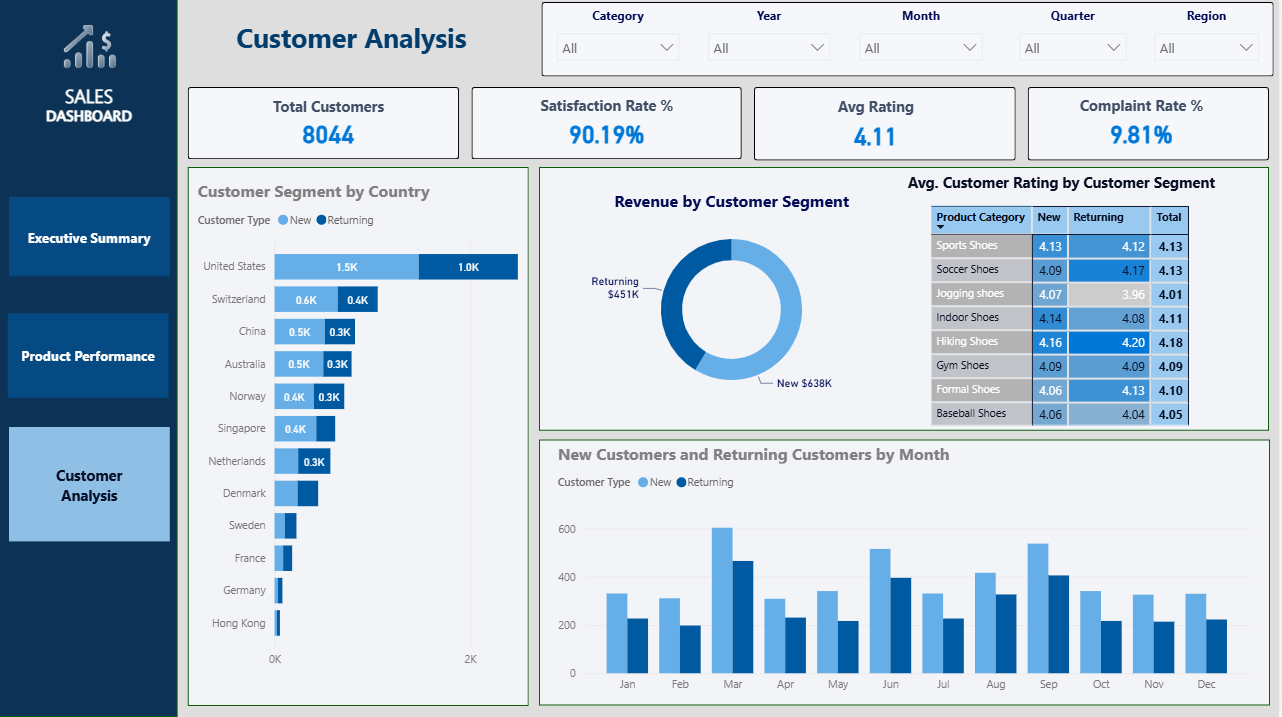

The dashboard page shown, as its layout file describes it:
{"tool":"powerbi","page":{"name":"Customer Analysis","canvas":[1280,720],"ordinal":2},"visuals":[{"type":"shape","title":"Shape","box":[189.3,90.5,271.4,72.4],"z":0},{"type":"shape","title":"Large Shape","box":[540,443,731,266],"z":1000},{"type":"shape","title":"Large Shape","box":[540,170,730,263.8],"z":2000},{"type":"shape","box":[542.2,5.6,732.2,74.4],"z":3000},{"type":"shape","box":[0,0,178.5,720],"z":4000},{"type":"shape","title":"Large Shape","box":[189,170,341,539],"z":5000},{"type":"donutChart","title":"Revenue by Customer Segment","fields":{"Category":["Sales Data.Customer Type"],"Y":["All Measures.Total_Sales"]},"box":[573.3,192.2,317.8,218.9],"z":6000},{"type":"textbox","box":[204.3,17.1,297.1,47.1],"z":7000},{"type":"slicer","title":"Year","fields":{"Values":["Date table.Year"]},"box":[698.8,10,142.5,72.5],"z":8000},{"type":"image","box":[42.9,18.6,94.3,64.3],"z":9000},{"type":"textbox","box":[10,104.3,160,47.1],"z":10000},{"type":"textbox","box":[10,81.4,160,47.1],"z":11000},{"type":"shape","title":"Shape","box":[1028.7,90.5,241.2,73.6],"z":12000},{"type":"shape","title":"Shape","box":[755,90.5,261.7,73.6],"z":13000},{"type":"shape","title":"Shape","box":[472.8,90.5,270.2,72.4],"z":14000},{"type":"slicer","title":"Category","fields":{"Values":["Products Details.Products Category"]},"box":[547.1,10,142.9,70],"z":15000},{"type":"slicer","title":"Month","fields":{"Values":["Date table.Month"]},"box":[850,10,143.8,72.5],"z":16000},{"type":"slicer","title":"Quarter","fields":{"Values":["Date table.Quarter"]},"box":[1010,10,127.5,71.2],"z":17000},{"type":"slicer","title":"Region","fields":{"Values":["Location Details.Geographic Region"]},"box":[1145,10,125,70],"z":18000},{"type":"card","title":"Total Customers","fields":{"Values":["All Measures.Total Customers"]},"box":[246,98.9,166.4,56.7],"z":19000},{"type":"card","title":"Satisfaction Rate %","fields":{"Values":["Calculated Measures.Satisfaction Rate %"]},"box":[528.2,97.7,158,57.9],"z":20000},{"type":"card","title":" Avg Rating","fields":{"Values":["All Measures.Avg Customer Rating"]},"box":[787.5,98.9,178.5,60.3],"z":21000},{"type":"card","title":"Complaint Rate %","fields":{"Values":["Calculated Measures.Complaint Rate %"]},"box":[1052.9,97.7,179.7,57.9],"z":22000},{"type":"clusteredColumnChart","title":"New Customers and Returning Customers by Month","fields":{"Category":["Date table.Month"],"Y":["CountNonNull(Sales Data.Sales Id)"],"Series":["Sales Data.Customer Type"]},"box":[553.3,445.6,701.1,258.9],"z":23000},{"type":"barChart","title":"Customer Segment by Country","fields":{"Category":["Sales Data.Country"],"Y":["All Measures.Total Customers"],"Series":["Sales Data.Customer Type"]},"box":[193.8,182.5,386.2,496.2],"z":24000},{"type":"pivotTable","title":"Avg. Customer Rating by Customer Segment","fields":{"Values":["All Measures.Avg Customer Rating"],"Columns":["Sales Data.Customer Type"],"Rows":["Sales Data.Product Category"]},"box":[927.1,204.3,285.7,238.6],"z":25000},{"type":"actionButton","title":"Executive Summary","box":[9.6,200.2,160.4,79.6],"z":26000},{"type":"actionButton","title":"Executive Summary","box":[9.6,430.6,160.4,114.6],"z":27000},{"type":"actionButton","title":"Executive Summary","box":[8.4,316,160.4,84.4],"z":28000},{"type":"textbox","box":[904.3,170,350,34.3],"z":29000}]}

Visuals, with their boxes on the page's 1280x720 design canvas (x1, y1, x2, y2). These are canvas units, not pixel positions in the 1282x717 screenshot, which may show the page scaled, cropped or inside an application window:
"Shape" shape: 189,90,461,163
"Large Shape" shape: 540,443,1271,709
"Large Shape" shape: 540,170,1270,434
shape: 542,6,1274,80
shape: 0,0,178,720
"Large Shape" shape: 189,170,530,709
"Revenue by Customer Segment" donutChart: 573,192,891,411
textbox: 204,17,501,64
"Year" slicer: 699,10,841,82
image: 43,19,137,83
textbox: 10,104,170,151
textbox: 10,81,170,128
"Shape" shape: 1029,90,1270,164
"Shape" shape: 755,90,1017,164
"Shape" shape: 473,90,743,163
"Category" slicer: 547,10,690,80
"Month" slicer: 850,10,994,82
"Quarter" slicer: 1010,10,1138,81
"Region" slicer: 1145,10,1270,80
"Total Customers" card: 246,99,412,156
"Satisfaction Rate %" card: 528,98,686,156
" Avg Rating" card: 788,99,966,159
"Complaint Rate %" card: 1053,98,1233,156
"New Customers and Returning Customers by Month" clusteredColumnChart: 553,446,1254,704
"Customer Segment by Country" barChart: 194,182,580,679
"Avg. Customer Rating by Customer Segment" pivotTable: 927,204,1213,443
"Executive Summary" actionButton: 10,200,170,280
"Executive Summary" actionButton: 10,431,170,545
"Executive Summary" actionButton: 8,316,169,400
textbox: 904,170,1254,204
